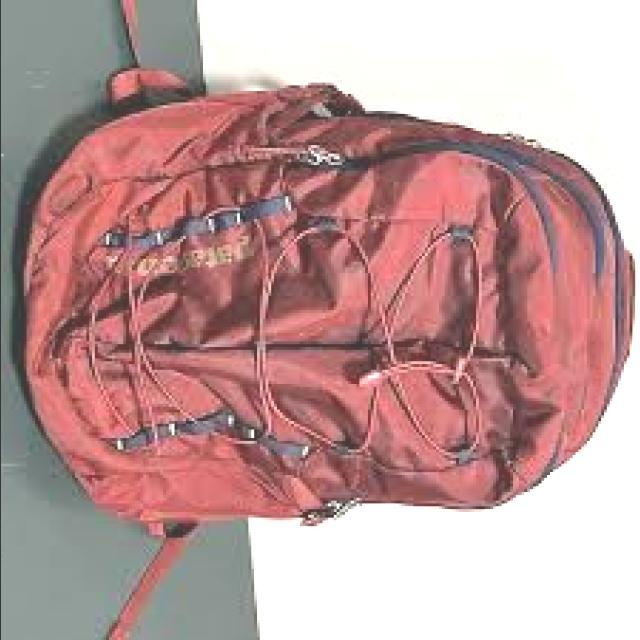backpack: (1, 56, 640, 565)
